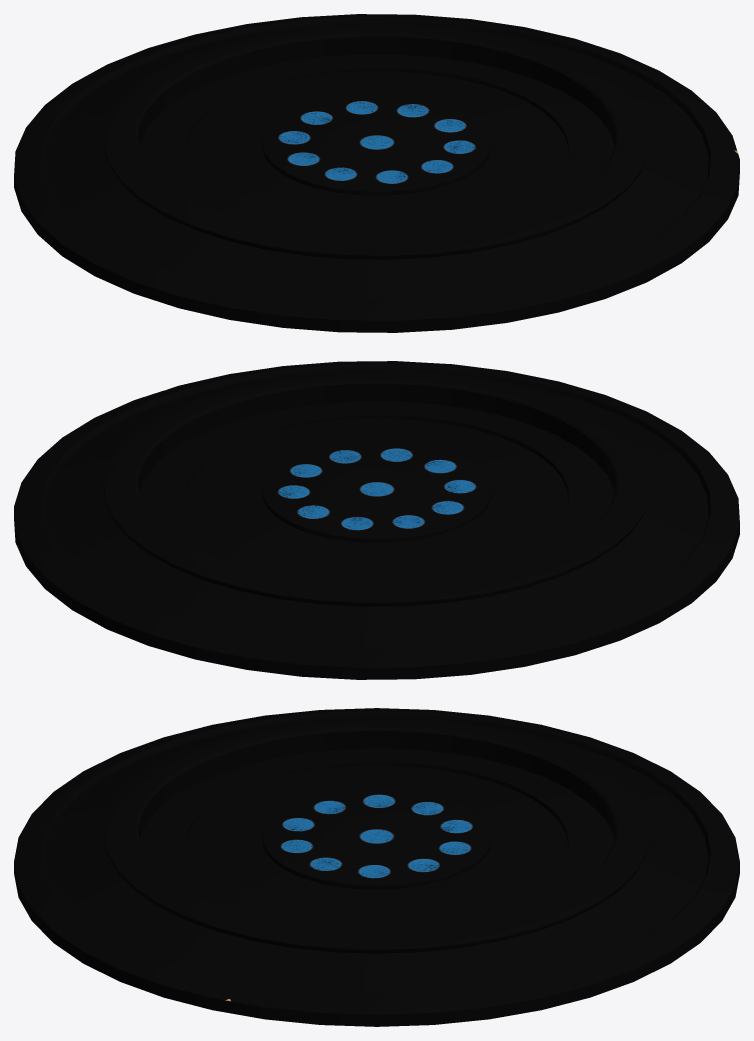
The model's file is Cube_langue.fbx.
3 views of the same model, one above another, from view 1: azimuth 30°, elevation 25°; view 2: azimuth 150°, elevation 25°; view 3: azimuth 270°, elevation 25° (orthographic).
Visible parts, largest first — view 1: teleporteur; view 2: teleporteur; view 3: teleporteur.
Part boxes in pixels (x1,y1,x2,y2): teleporteur: (14,14,739,332); teleporteur: (14,361,739,679); teleporteur: (14,708,739,1026).
Bounding box in the file's own units: 1.09 × 0.0755 × 1.09.
